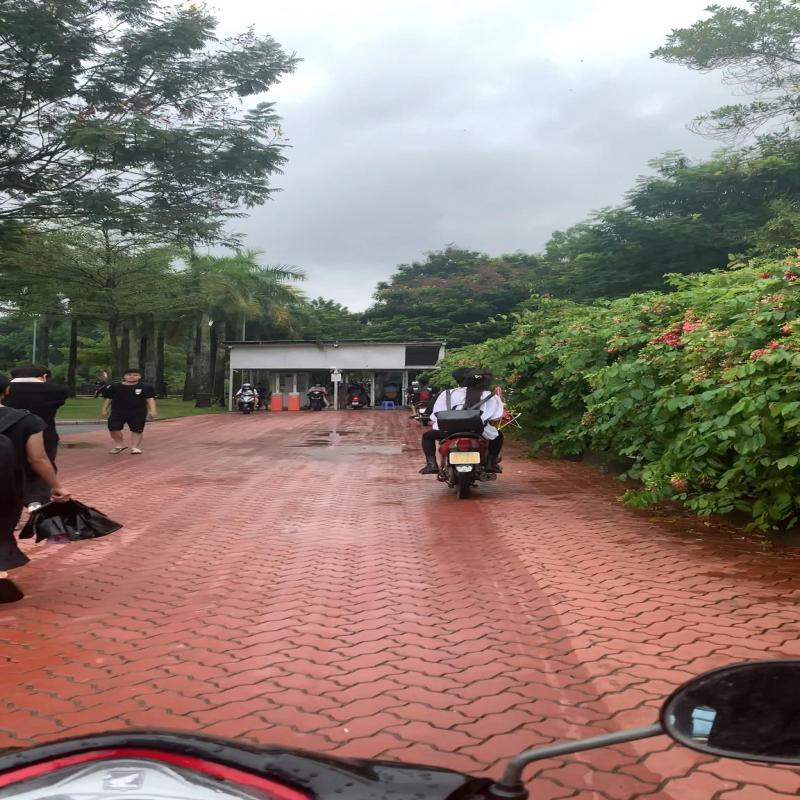licenseplate: (445, 450, 484, 466)
motorcyclist: (412, 364, 516, 502)
nohelmet: (464, 370, 498, 388)
